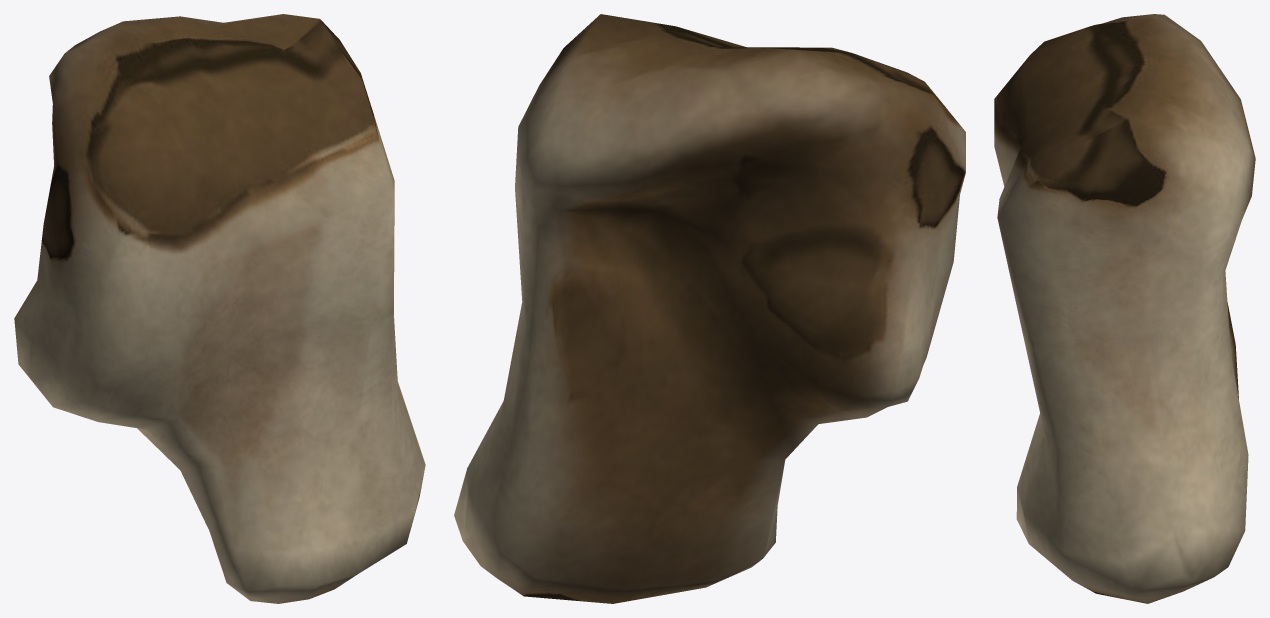
The model's file is Trochlea.glb.
3 views of the same model, side by side, from view 1: azimuth 30°, elevation 25°; view 2: azimuth 150°, elevation 25°; view 3: azimuth 270°, elevation 25° (orthographic). The views are drawn at different scales.
Visible parts, largest first — view 1: Trochlea_Right1:Group22310; view 2: Trochlea_Right1:Group22310; view 3: Trochlea_Right1:Group22310.
Boxes of the visible parts, left/top/right/bottom form: Trochlea_Right1:Group22310: left=14, top=14, right=425, bottom=603; Trochlea_Right1:Group22310: left=454, top=14, right=965, bottom=603; Trochlea_Right1:Group22310: left=994, top=14, right=1255, bottom=603.
Bounding box in the file's own units: 19.83 × 26.35 × 12.97.
1 material, 1 textured.
